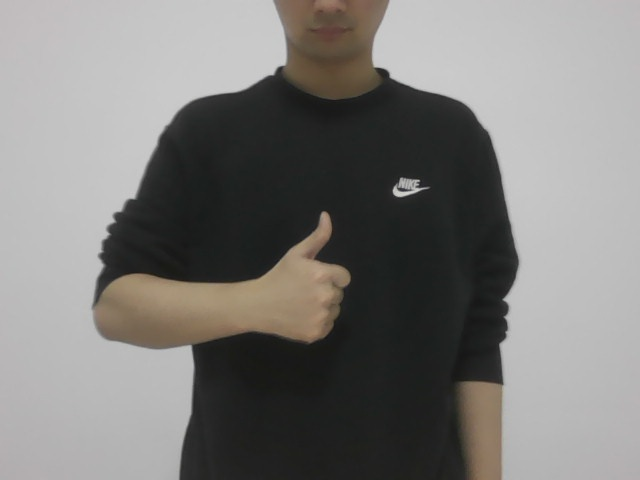good: (248, 207, 368, 355)
